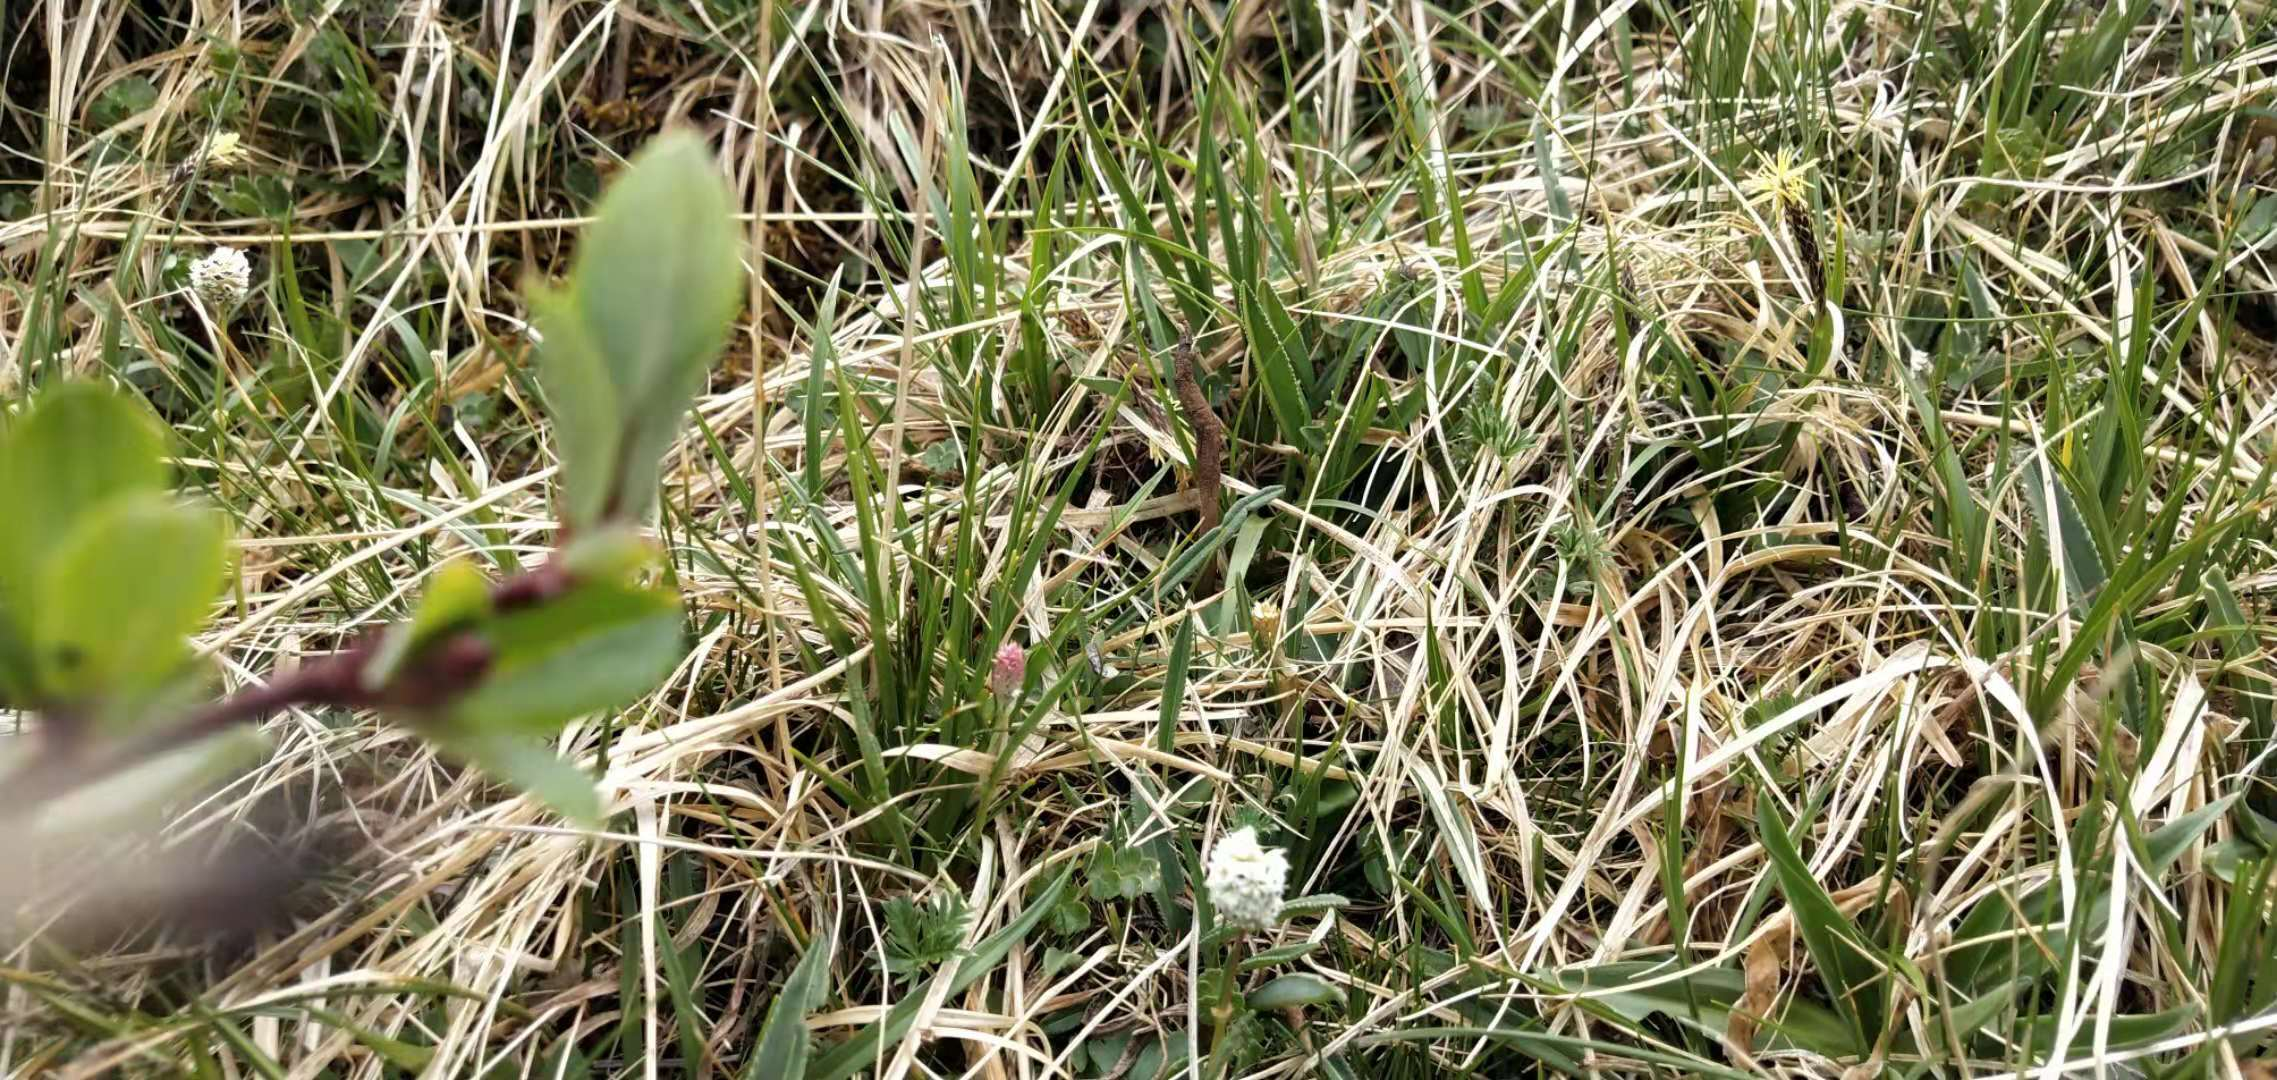cpf: (1170, 348, 1231, 576)
